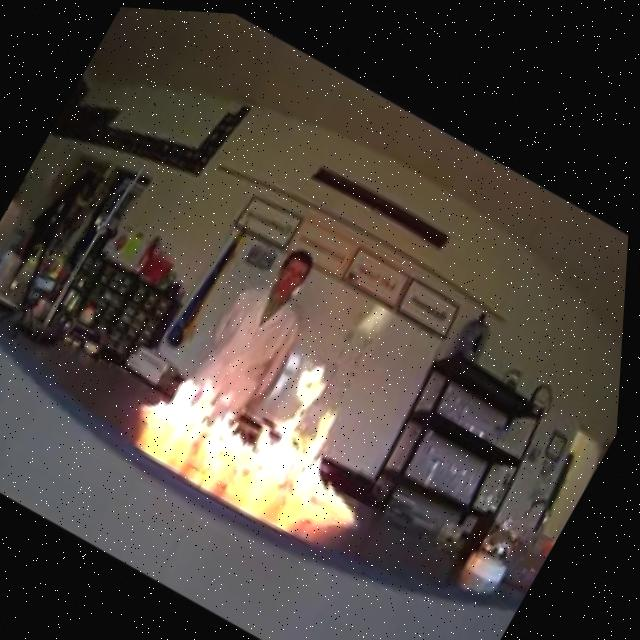Fire: (130, 286, 427, 532)
